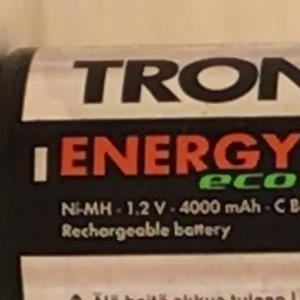keyword: (53, 193, 108, 224)
